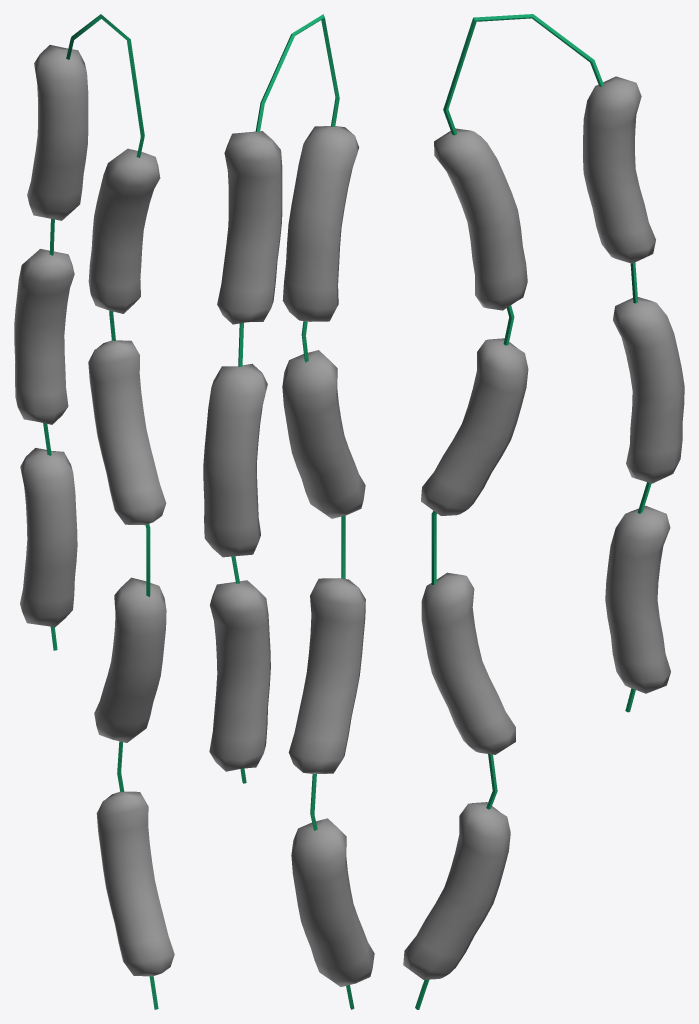
File: Sausages.FBX
3 renders of one model, left to right at view 1: azimuth 30°, elevation 25°; view 2: azimuth 150°, elevation 25°; view 3: azimuth 270°, elevation 25°, orthographic. The views are drawn at different scales.
Parts seen in each view (by area): view 1: Box002, Line001; view 2: Box002, Line001; view 3: Box002, Line001.
Boxes of the visible parts, left/top/right/bottom form: Box002: left=14, top=45, right=174, bottom=976; Line001: left=43, top=14, right=158, bottom=1009; Box002: left=203, top=126, right=374, bottom=986; Line001: left=231, top=14, right=354, bottom=1009; Box002: left=403, top=76, right=684, bottom=979; Line001: left=415, top=14, right=651, bottom=1009.
Bounding box in the file's own units: 1.61 × 30.32 × 7.77.
